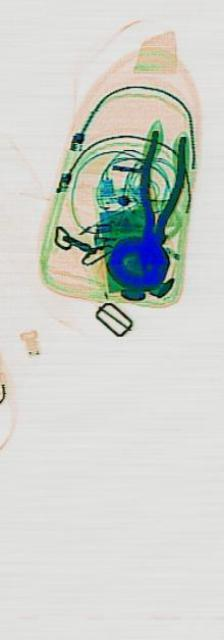Pliers: (128, 105, 187, 282)
